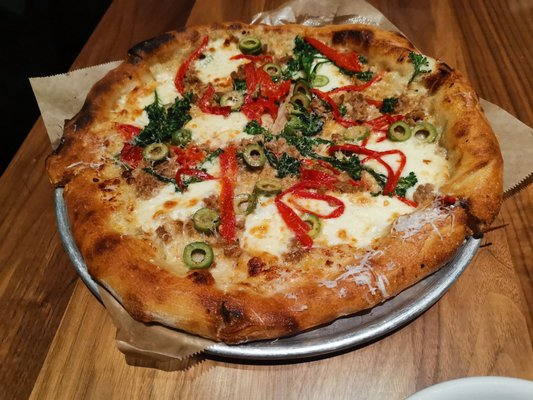sushi: (401, 375, 533, 400)
